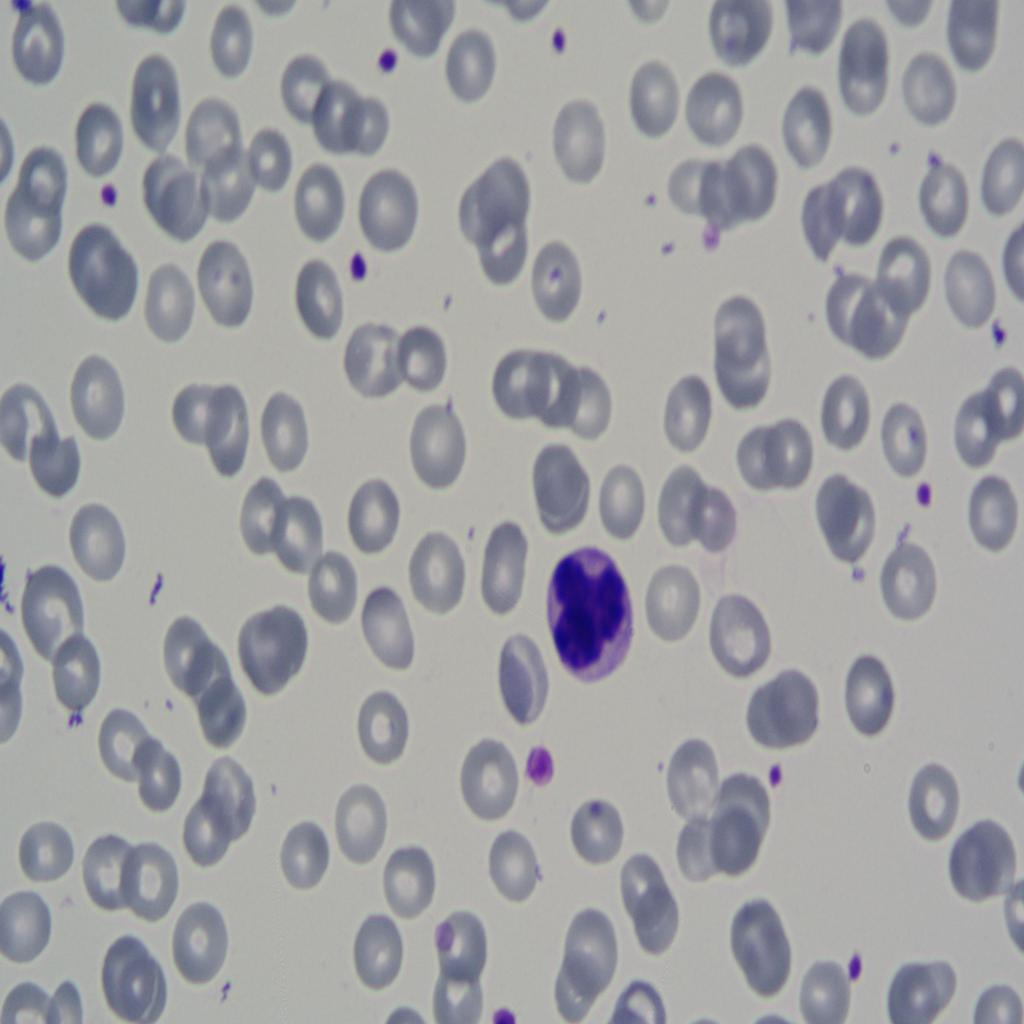Myeoblast: (535, 526, 639, 695)
Platelet: (365, 23, 402, 98), (544, 15, 582, 71), (842, 930, 870, 989), (761, 750, 791, 804), (92, 175, 125, 221), (985, 314, 1020, 354), (341, 246, 373, 286), (911, 468, 938, 512), (698, 226, 732, 256), (925, 148, 948, 180)
